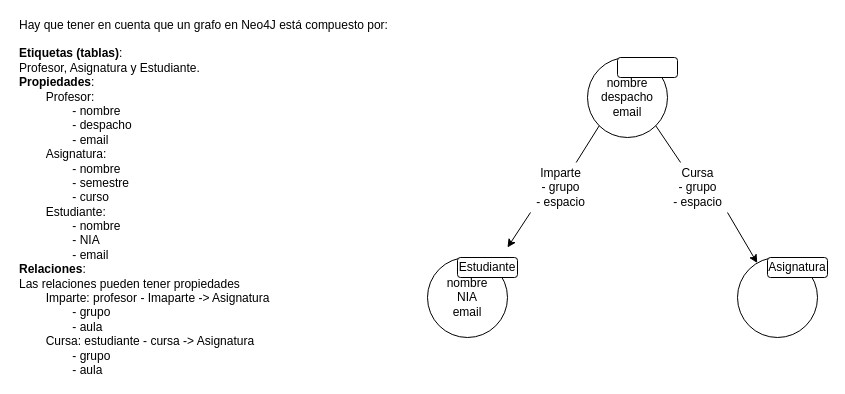
This 845x394 diagram has some shape labels left out. The shapes that lost their labels are listed below. From the top down, each one's box as (x1, y1, x2, y2) in pixels, then its label:
(616, 56, 678, 78): Profesor
(736, 256, 818, 338): nombre semestre curso
